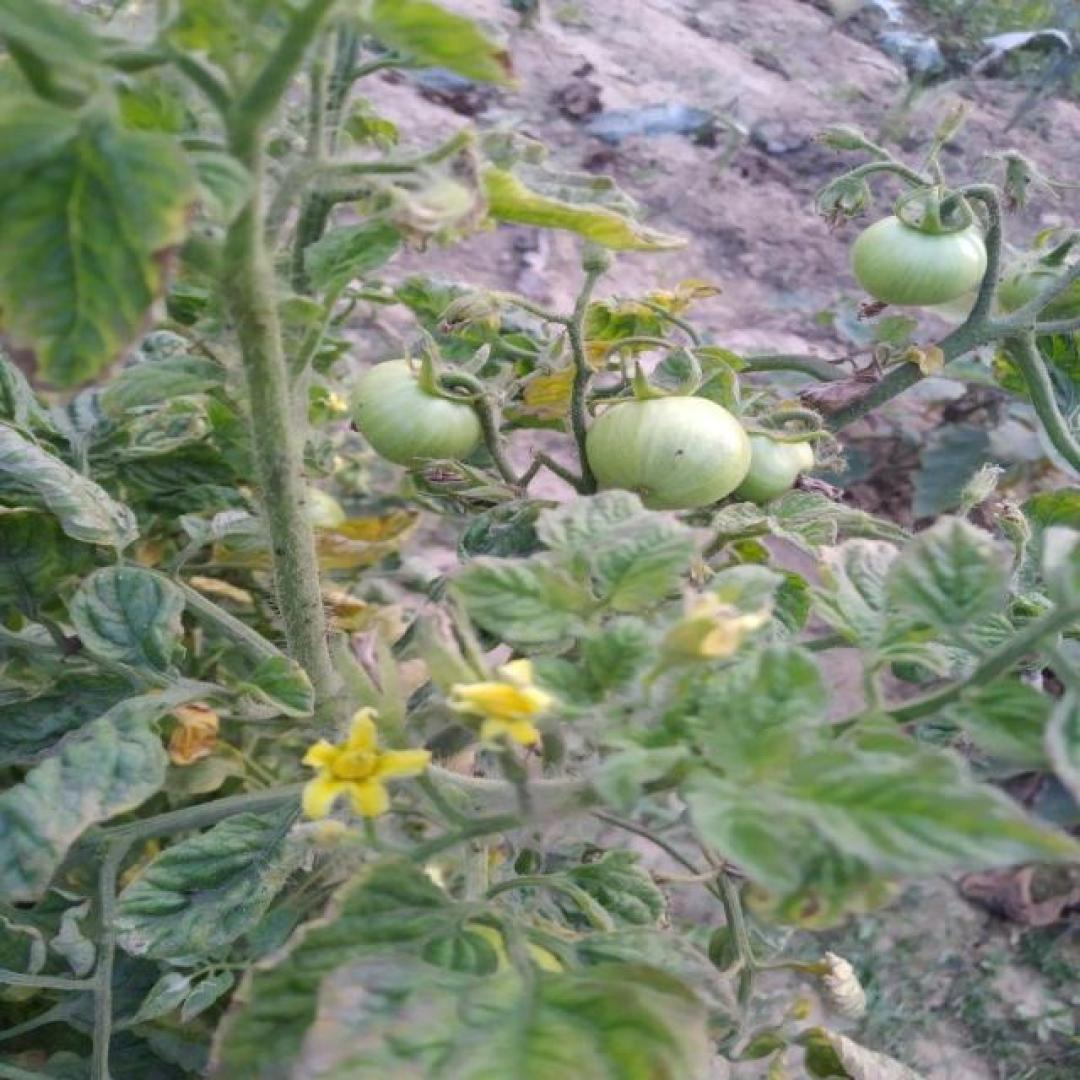mentah: (582, 393, 748, 513), (351, 358, 488, 467), (849, 214, 987, 307)
